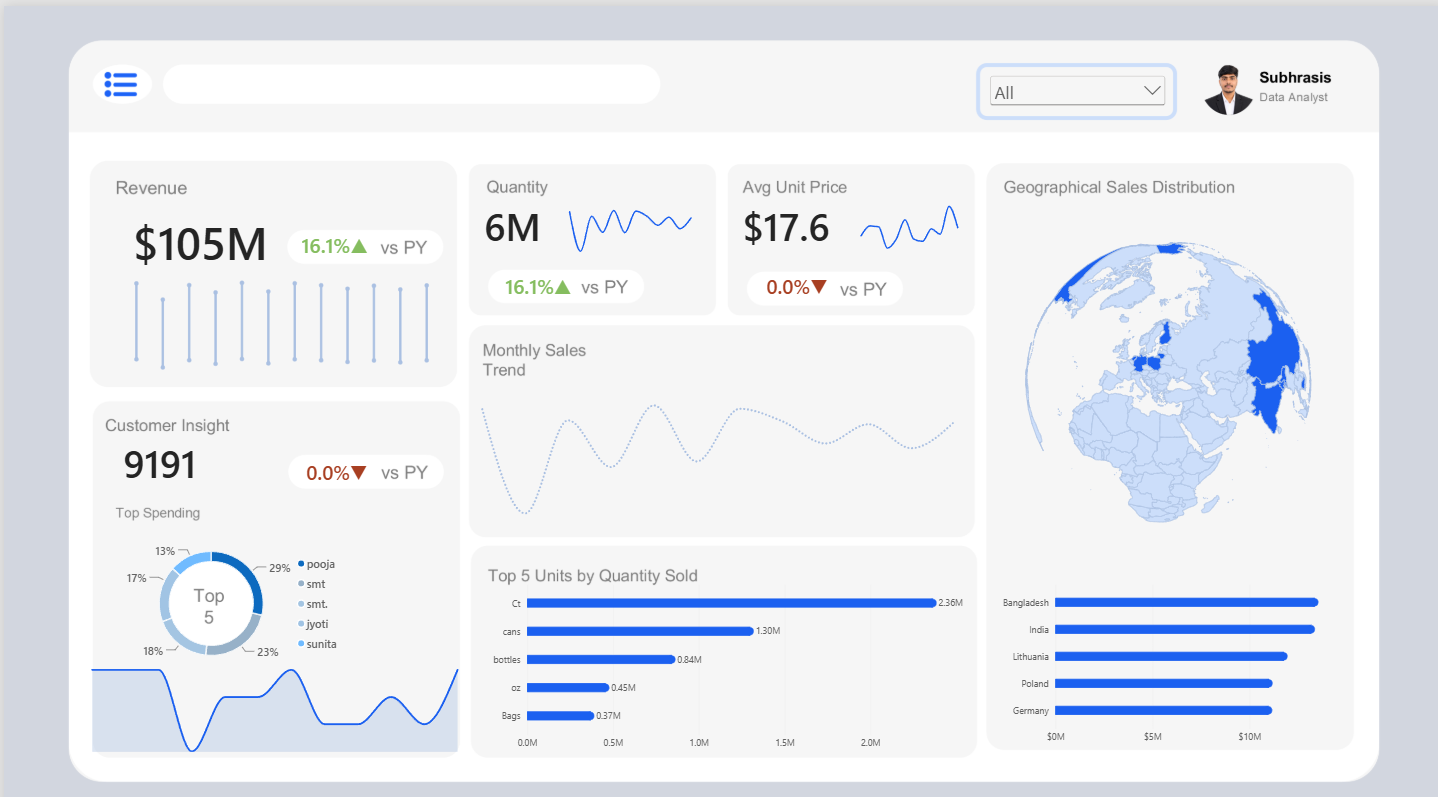

The page's visual inventory and layout, read from the dashboard file:
{"tool":"powerbi","page":{"name":"Page 1","canvas":[1920,1080],"ordinal":0},"visuals":[{"type":"shapeMap","fields":{"Category":["item_dim.man_country"]},"box":[1310.5,279.7,485,444.4],"z":0},{"type":"card","fields":{"Values":["Dax Measures.TOTAL SALES"]},"box":[111.6,163.7,300,300],"z":1000},{"type":"card","fields":{"Values":["Dax Measures.TOTAL QTY"]},"box":[595.3,223.3,165.6,137.7],"z":2000},{"type":"card","fields":{"Values":["Dax Measures.AVG UNIT PRICE"]},"box":[960,223.3,165.6,137.7],"z":3000},{"type":"card","fields":{"Values":["Dax Measures.CUSTOMERS"]},"box":[124.7,539.5,165.6,137.7],"z":4000},{"type":"card","fields":{"Values":["Dax Measures.% YOY SALES"]},"box":[313.5,282,254.9,78.9],"z":5000},{"type":"card","fields":{"Values":["Dax Measures.% YOY QTY"]},"box":[595.5,338.4,234.6,74.4],"z":6000},{"type":"card","fields":{"Values":["Dax Measures.% YOY PRICE"]},"box":[940.6,338.4,234.6,74.4],"z":7000},{"type":"card","fields":{"Values":["Dax Measures.% YOY CUSTOMERS"]},"box":[342.9,588.7,200.8,69.9],"z":8000},{"type":"slicer","fields":{"Values":["time_dim.year"]},"box":[1310.5,88,243.6,60.9],"z":9000},{"type":"columnChart","fields":{"Category":["time_dim.month"],"Y":["Dax Measures.TOTAL SALES"]},"box":[110.5,324.8,485,263.9],"z":10000},{"type":"lineChart","fields":{"Category":["time_dim.month"],"Y":["Dax Measures.TOTAL QTY"]},"box":[712.8,245.9,272.9,115],"z":11000},{"type":"lineChart","fields":{"Category":["time_dim.month"],"Y":["Dax Measures.AVG UNIT PRICE"]},"box":[1105.3,225.6,227.8,115],"z":12000},{"type":"areaChart","fields":{"Category":["time_dim.month"],"Y":["Dax Measures.CUSTOMERS"]},"box":[92.5,861.7,539.1,148.9],"z":13000},{"type":"donutChart","fields":{"Category":["customer_dim.name"],"Y":["Dax Measures.TOTAL SALES"]},"box":[146.7,657.8,322.2,277.8],"z":13001},{"type":"lineChart","fields":{"Category":["time_dim.month"],"Y":["Dax Measures.TOTAL SALES"]},"box":[611.3,491.7,681.2,212],"z":13002},{"type":"barChart","fields":{"Category":["fact_table.unit"],"Y":["Dax Measures.TOTAL QTY"]},"box":[632.3,750.4,677.3,261.4],"z":13003},{"type":"barChart","fields":{"Category":["item_dim.man_country"],"Y":["Dax Measures.TOTAL SALES"]},"box":[1309.6,750.4,486.2,252.9],"z":13004}]}

Visuals, with their boxes in screenshot pixels (x1, y1, x2, y2), scaled from the page's 1920x1080 canvas onto the 1438x797 screenshot:
shapeMap - item_dim.man_country: <bbox>982, 206, 1345, 534</bbox>
card - Dax Measures.TOTAL SALES: <bbox>84, 121, 308, 342</bbox>
card - Dax Measures.TOTAL QTY: <bbox>446, 165, 570, 266</bbox>
card - Dax Measures.AVG UNIT PRICE: <bbox>719, 165, 843, 266</bbox>
card - Dax Measures.CUSTOMERS: <bbox>93, 398, 217, 500</bbox>
card - Dax Measures.% YOY SALES: <bbox>235, 208, 426, 266</bbox>
card - Dax Measures.% YOY QTY: <bbox>446, 250, 622, 305</bbox>
card - Dax Measures.% YOY PRICE: <bbox>704, 250, 880, 305</bbox>
card - Dax Measures.% YOY CUSTOMERS: <bbox>257, 434, 407, 486</bbox>
slicer - time_dim.year: <bbox>982, 65, 1164, 110</bbox>
columnChart - time_dim.month x Dax Measures.TOTAL SALES: <bbox>83, 240, 446, 434</bbox>
lineChart - time_dim.month x Dax Measures.TOTAL QTY: <bbox>534, 181, 738, 266</bbox>
lineChart - time_dim.month x Dax Measures.AVG UNIT PRICE: <bbox>828, 166, 998, 251</bbox>
areaChart - time_dim.month x Dax Measures.CUSTOMERS: <bbox>69, 636, 473, 746</bbox>
donutChart - customer_dim.name x Dax Measures.TOTAL SALES: <bbox>110, 485, 351, 690</bbox>
lineChart - time_dim.month x Dax Measures.TOTAL SALES: <bbox>458, 363, 968, 519</bbox>
barChart - fact_table.unit x Dax Measures.TOTAL QTY: <bbox>474, 554, 981, 747</bbox>
barChart - item_dim.man_country x Dax Measures.TOTAL SALES: <bbox>981, 554, 1345, 740</bbox>
